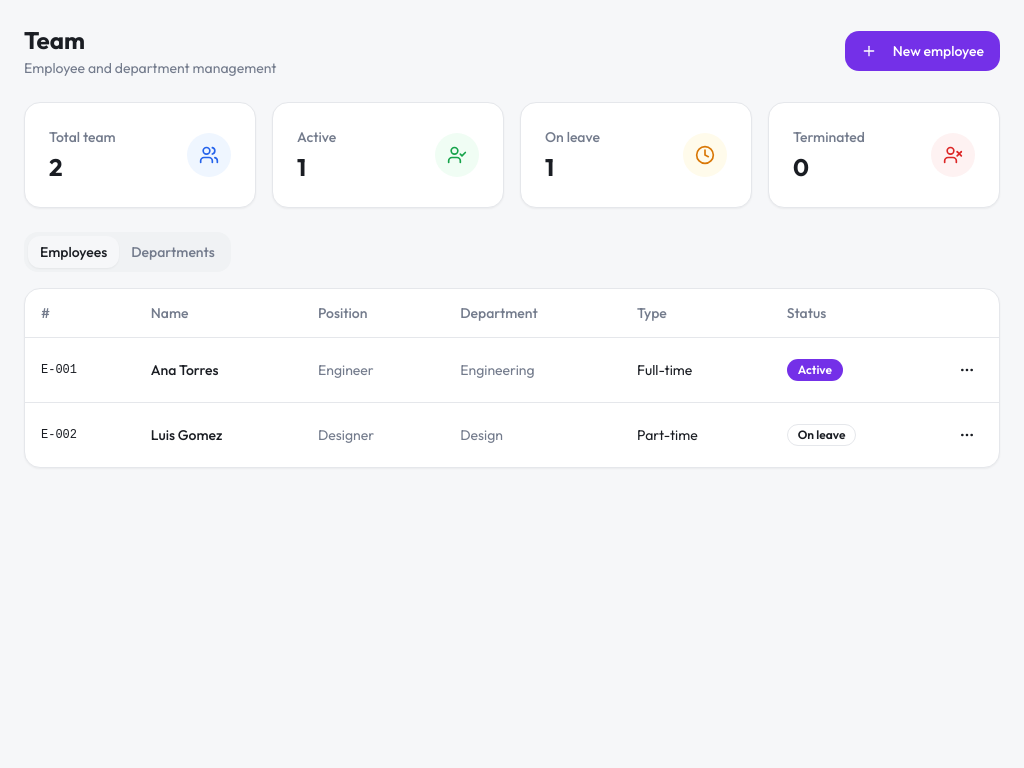
Test case: HR in English › shows the employee detail with the start date formatted for English
The image size is (1024, 768).
Click the text "Ana Torres": [218, 370] box left=135, top=337, right=302, bottom=402
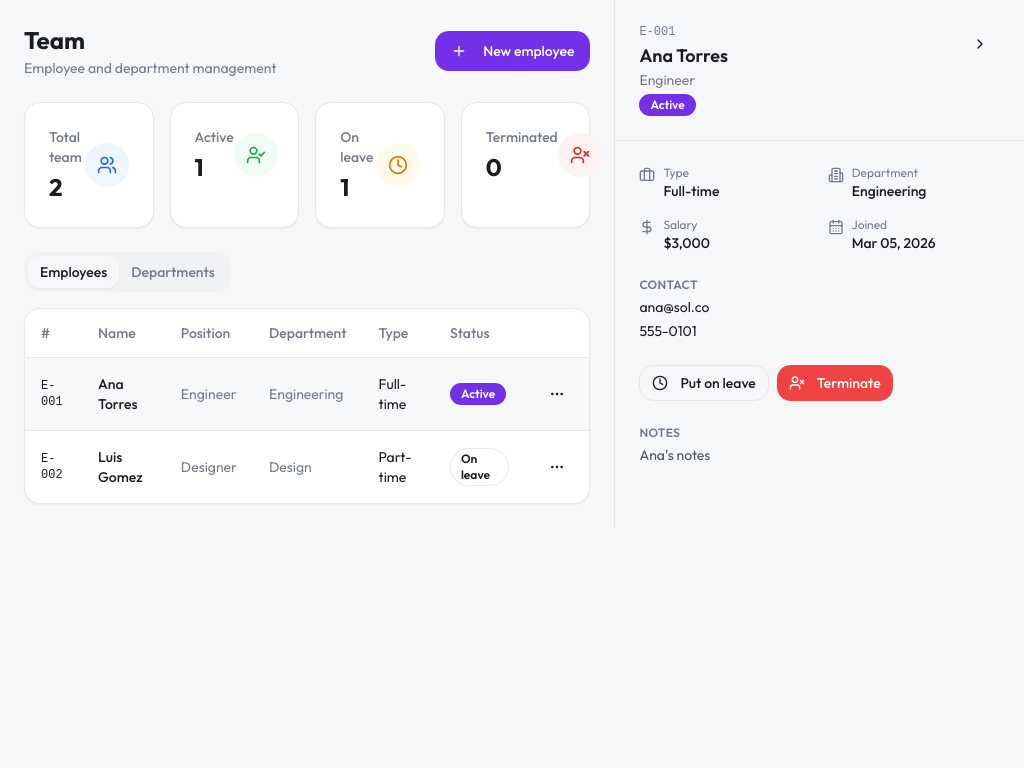
Expected: the text "Joined" is shown, left=852, top=217, right=887, bottom=232
Expected: the text "Contact" is shown, left=639, top=277, right=698, bottom=292
Expected: the text "Ana's notes" is shown, left=639, top=446, right=710, bottom=464
